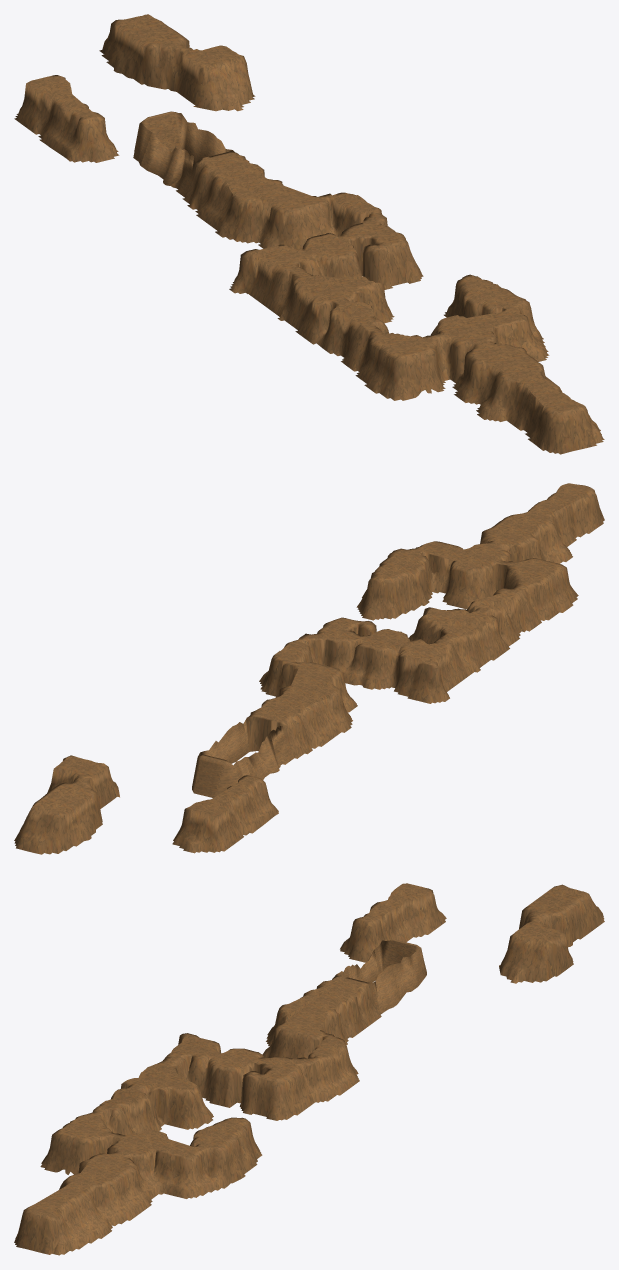
Rendered from RuinasTest_Limpo.fbx.
3 renders of one model, top to bottom at view 1: azimuth 30°, elevation 25°; view 2: azimuth 150°, elevation 25°; view 3: azimuth 330°, elevation 25°, orthographic. The views are drawn at different scales.
Visible parts, largest first — view 1: pPlane1; view 2: pPlane1; view 3: pPlane1.
Boxes of the visible parts, x1,y1,x2,y2 form: pPlane1: [14, 14, 604, 454]; pPlane1: [14, 483, 604, 854]; pPlane1: [14, 883, 604, 1255].
Bounding box in the file's own units: 71.96 × 13.15 × 301.
